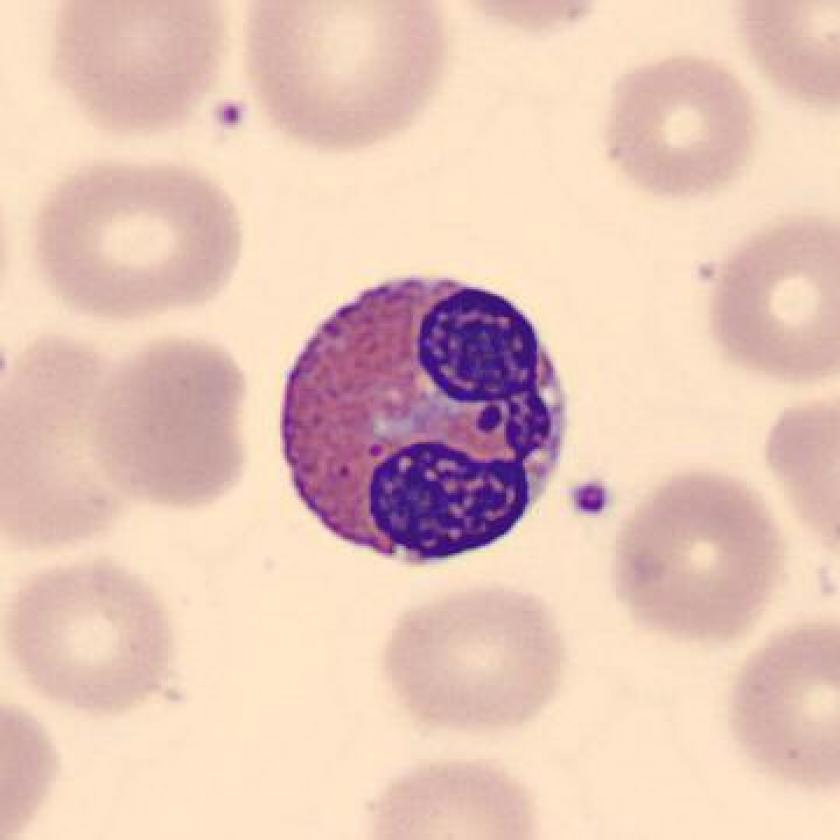eosinophil: (265, 265, 577, 577)
